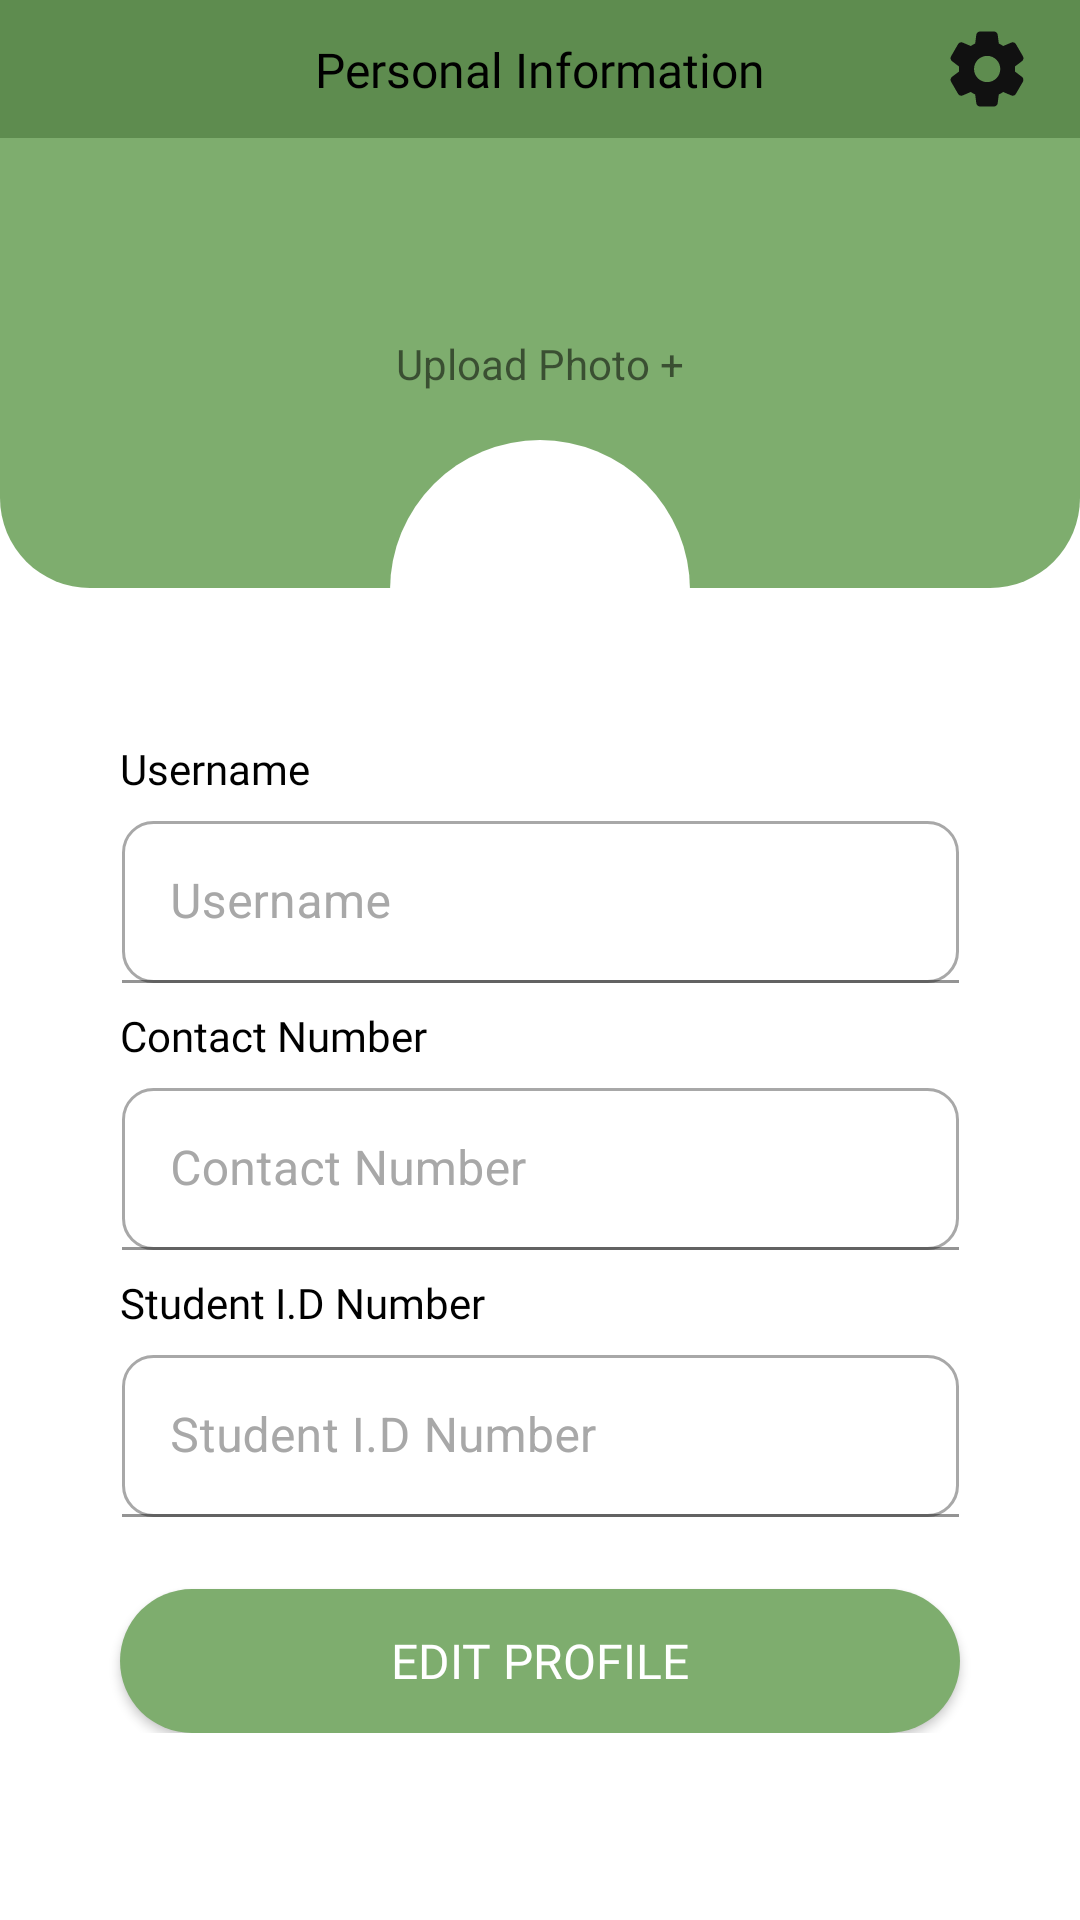

Named icons in this screenshot (1080px x 1920px) and their centers, (x=x, y=y):
settings: (x=987, y=69)
